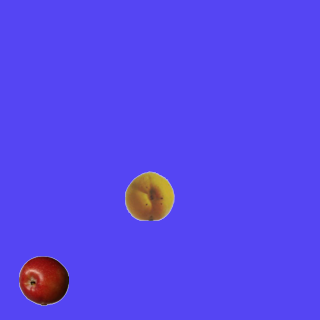Apple Braeburn: (18, 255, 68, 305)
Peach 2: (124, 170, 174, 220)
